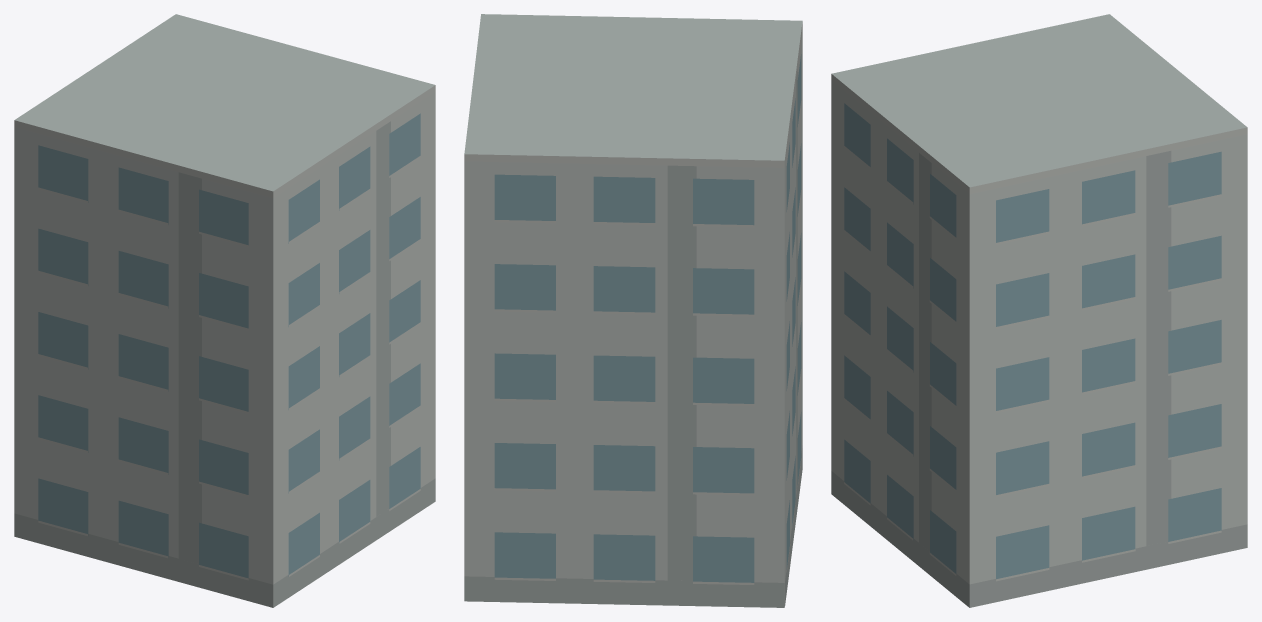
The model's file is survey-upis-32833929.glb.
3 views of the same model, side by side, from view 1: azimuth 30°, elevation 25°; view 2: azimuth 150°, elevation 25°; view 3: azimuth 270°, elevation 25° (orthographic). The views are drawn at different scales.
Visible parts, largest first — view 1: survey-upis-32833929.tmp; view 2: survey-upis-32833929.tmp; view 3: survey-upis-32833929.tmp.
Boxes of the visible parts, x1=… form: survey-upis-32833929.tmp: x1=14, y1=14, x2=435, y2=607; survey-upis-32833929.tmp: x1=464, y1=14, x2=802, y2=607; survey-upis-32833929.tmp: x1=831, y1=14, x2=1247, y2=607.
Size of the model in its own units: 13.28 by 15 by 13.47.
